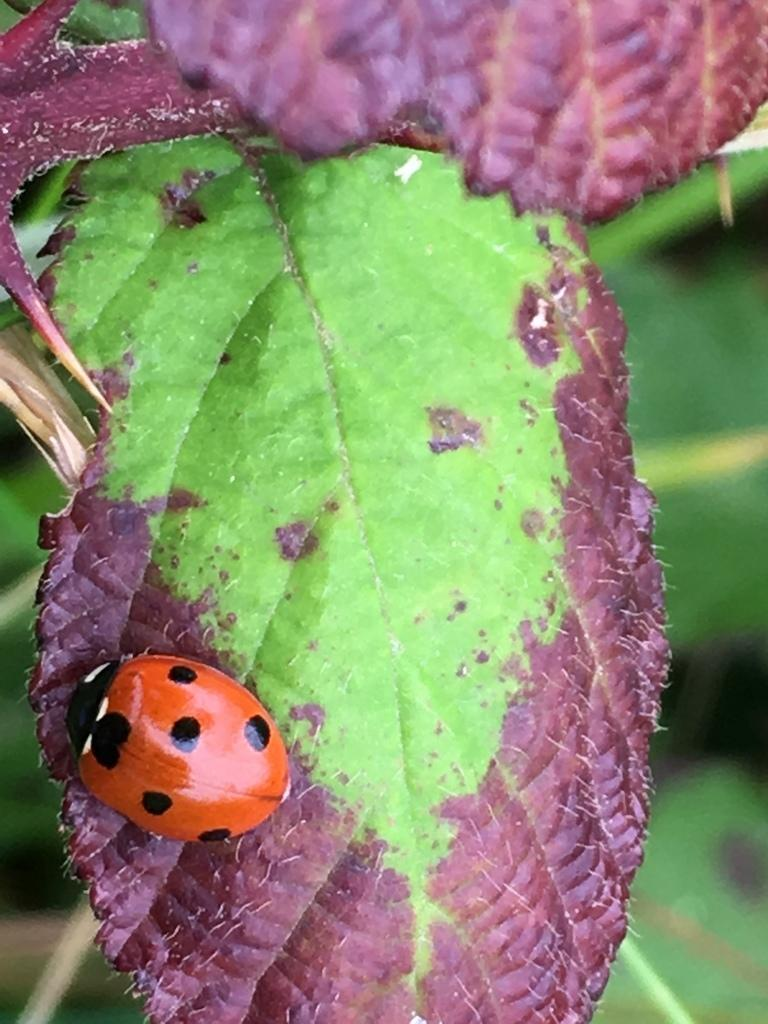ladybug: (61, 649, 296, 851)
